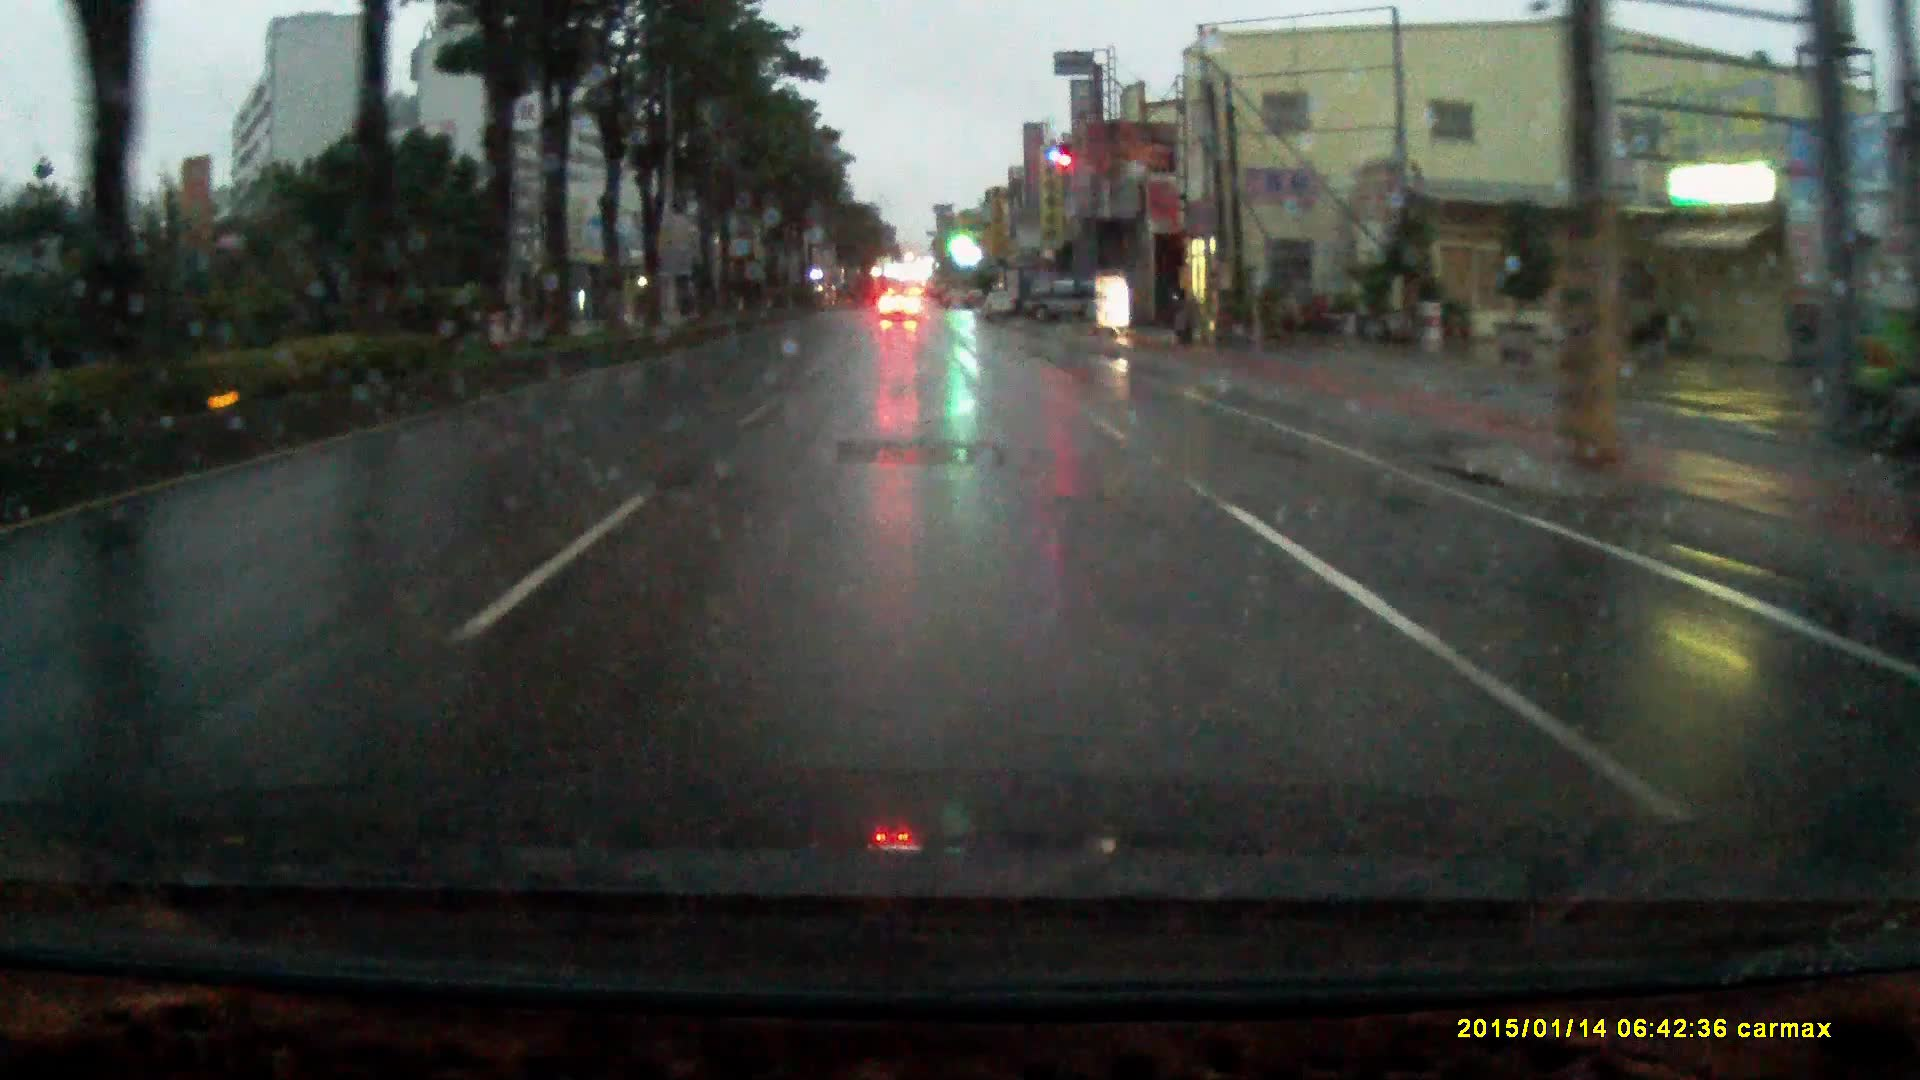vehicle: (1025, 277, 1102, 324), (880, 291, 926, 328)
